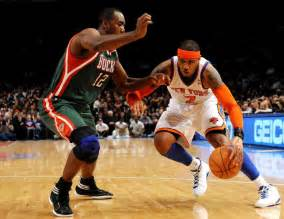basketball: (208, 146, 240, 179)
